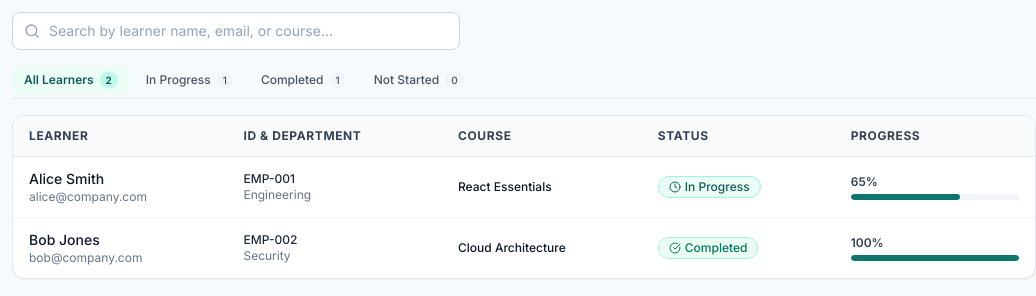
Scenario: Trainer Component Library › LearnerProgressTable › filters by search keyword
The width and height of the screenshot is (1036, 296).
Type "React" into the field named "Search learners". click: x=236, y=31
box: [12, 12, 460, 50]
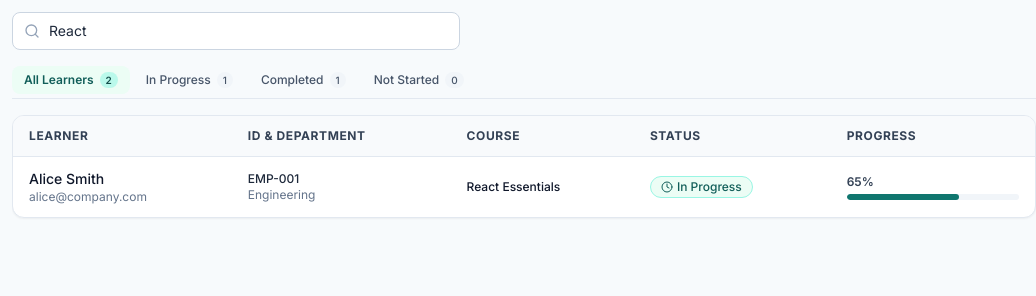
Expected: the text "Alice Smith" is shown, [29, 170, 104, 187]
Expected: the text "Bob Jones" is gone
